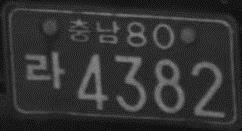0: (152, 23, 174, 50)
2: (190, 60, 225, 118)
3: (113, 54, 147, 112)
4: (77, 54, 107, 109)
8: (153, 58, 185, 113), (126, 21, 146, 46)
라: (24, 50, 65, 90)
충남_O: (69, 18, 120, 44)
